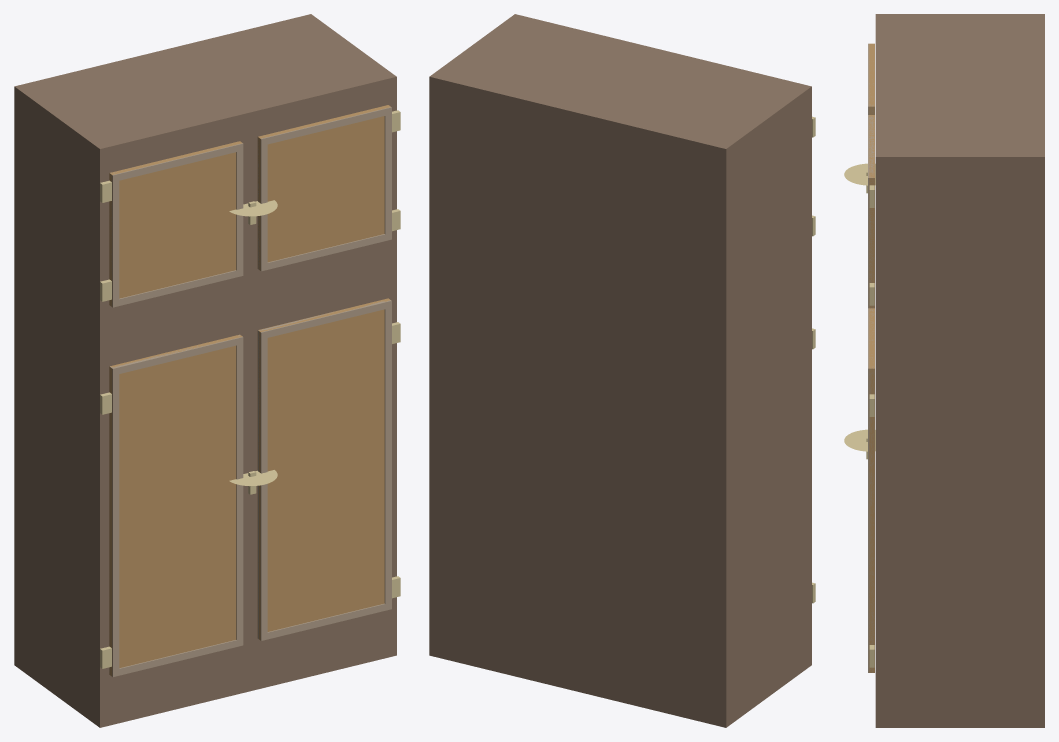
Rendered from prop_huanghuali_cabinet.glb.
3 renders of one model, left to right at view 1: azimuth 30°, elevation 25°; view 2: azimuth 150°, elevation 25°; view 3: azimuth 270°, elevation 25°, orthographic.
Visible parts, largest first — view 1: prop_huanghuali_cabinet/cabinet_main_body_00000, prop_huanghuali_cabinet/cabinet_top_chest_00001, prop_huanghuali_cabinet/cabinet_door_panel_00002, prop_huanghuali_cabinet/cabinet_door_panel_00007, prop_huanghuali_cabinet/cabinet_door_panel_00012, prop_huanghuali_cabinet/cabinet_door_panel_00017, prop_huanghuali_cabinet/cabinet_panel_molding_stile_00008, prop_huanghuali_cabinet/cabinet_panel_molding_stile_00003, prop_huanghuali_cabinet/cabinet_panel_molding_stile_00009, prop_huanghuali_cabinet/cabinet_panel_molding_stile_00004, prop_huanghuali_cabinet/cabinet_panel_molding_stile_00018, prop_huanghuali_cabinet/cabinet_panel_molding_stile_00013 (+10 smaller); view 2: prop_huanghuali_cabinet/cabinet_main_body_00000, prop_huanghuali_cabinet/cabinet_top_chest_00001; view 3: prop_huanghuali_cabinet/cabinet_main_body_00000, prop_huanghuali_cabinet/cabinet_top_chest_00001, prop_huanghuali_cabinet/cabinet_door_panel_00007, prop_huanghuali_cabinet/cabinet_panel_molding_stile_00009, prop_huanghuali_cabinet/cabinet_door_panel_00017, prop_huanghuali_cabinet/cabinet_panel_molding_stile_00019, prop_huanghuali_cabinet/cabinet_brass_faceplate_00024, prop_huanghuali_cabinet/cabinet_brass_faceplate_00022, prop_huanghuali_cabinet/cabinet_door_panel_00012, prop_huanghuali_cabinet/cabinet_panel_molding_rail_00021.
Boxes of the visible parts, <box> form: prop_huanghuali_cabinet/cabinet_main_body_00000: <box>14,260,396,727</box>; prop_huanghuali_cabinet/cabinet_top_chest_00001: <box>14,14,396,332</box>; prop_huanghuali_cabinet/cabinet_door_panel_00002: <box>109,334,242,676</box>; prop_huanghuali_cabinet/cabinet_door_panel_00007: <box>257,298,389,640</box>; prop_huanghuali_cabinet/cabinet_door_panel_00012: <box>109,141,242,306</box>; prop_huanghuali_cabinet/cabinet_door_panel_00017: <box>257,105,390,270</box>; prop_huanghuali_cabinet/cabinet_panel_molding_stile_00008: <box>258,329,267,640</box>; prop_huanghuali_cabinet/cabinet_panel_molding_stile_00003: <box>109,366,119,676</box>; prop_huanghuali_cabinet/cabinet_panel_molding_stile_00009: <box>384,300,391,610</box>; prop_huanghuali_cabinet/cabinet_panel_molding_stile_00004: <box>236,335,243,646</box>; prop_huanghuali_cabinet/cabinet_panel_molding_stile_00018: <box>258,136,267,271</box>; prop_huanghuali_cabinet/cabinet_panel_molding_stile_00013: <box>109,172,119,307</box>; prop_huanghuali_cabinet/cabinet_main_body_00000: <box>429,260,811,727</box>; prop_huanghuali_cabinet/cabinet_top_chest_00001: <box>429,14,811,332</box>; prop_huanghuali_cabinet/cabinet_main_body_00000: <box>875,338,1044,727</box>; prop_huanghuali_cabinet/cabinet_top_chest_00001: <box>875,14,1044,337</box>; prop_huanghuali_cabinet/cabinet_door_panel_00007: <box>869,308,874,672</box>; prop_huanghuali_cabinet/cabinet_panel_molding_stile_00009: <box>868,365,874,672</box>; prop_huanghuali_cabinet/cabinet_door_panel_00017: <box>869,115,874,308</box>; prop_huanghuali_cabinet/cabinet_panel_molding_stile_00019: <box>868,175,874,308</box>; prop_huanghuali_cabinet/cabinet_brass_faceplate_00024: <box>844,163,875,185</box>; prop_huanghuali_cabinet/cabinet_brass_faceplate_00022: <box>844,429,875,451</box>; prop_huanghuali_cabinet/cabinet_door_panel_00012: <box>869,43,874,114</box>; prop_huanghuali_cabinet/cabinet_panel_molding_rail_00021: <box>868,118,874,174</box>.
Bounding box in the file's own units: 1.11 × 2.05 × 0.653.
